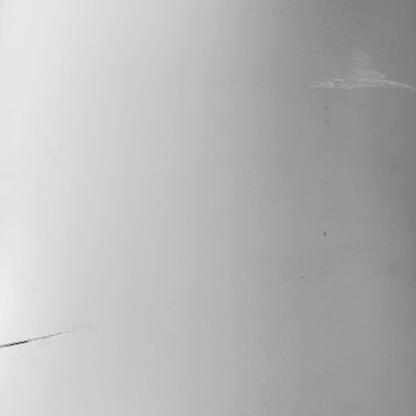sunshang: (314, 41, 416, 92), (1, 331, 78, 354)
